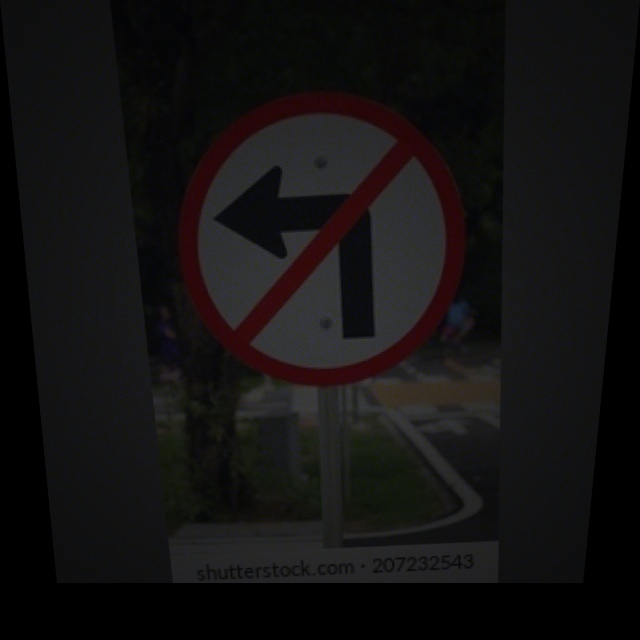Left_Turn_Prohibited: (163, 82, 484, 395)
